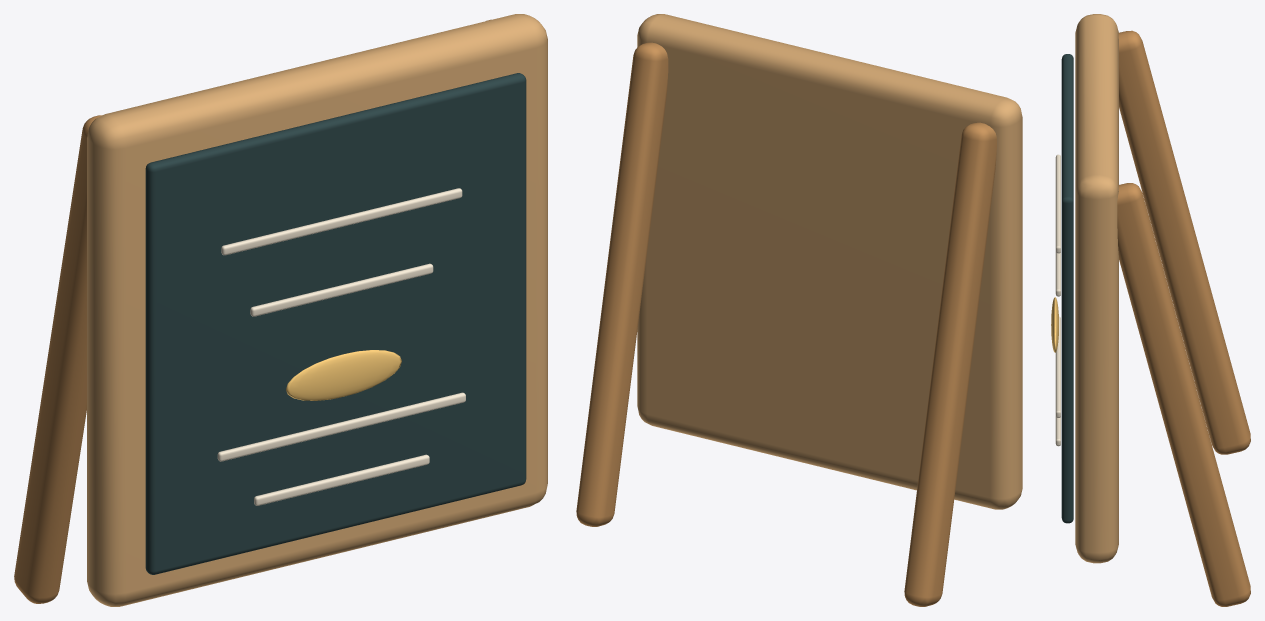
File: menu-board.obj
3 renders of one model, left to right at view 1: azimuth 30°, elevation 25°; view 2: azimuth 150°, elevation 25°; view 3: azimuth 270°, elevation 25°, orthographic. The views are drawn at different scales.
Parts seen in each view (by area): view 1: menu-board_chalk, menu-board_oakLight, menu-board_oak, menu-board_ivory, menu-board_seed; view 2: menu-board_oakLight, menu-board_oak; view 3: menu-board_oak, menu-board_oakLight, menu-board_chalk, menu-board_ivory, menu-board_seed.
Boxes of the visible parts, x1,y1,x2,y2 form: menu-board_chalk: [145, 73, 526, 574]; menu-board_oakLight: [87, 14, 547, 606]; menu-board_oak: [14, 19, 491, 603]; menu-board_ivory: [217, 188, 465, 505]; menu-board_seed: [286, 350, 401, 400]; menu-board_oakLight: [637, 14, 1022, 509]; menu-board_oak: [576, 42, 996, 606]; menu-board_oak: [1117, 30, 1250, 606]; menu-board_oakLight: [1075, 14, 1118, 563]; menu-board_chalk: [1061, 54, 1073, 523]; menu-board_ivory: [1055, 154, 1060, 446]; menu-board_seed: [1051, 297, 1058, 352].
Size of the model in its own units: 0.62 by 0.7172 by 0.2995.
